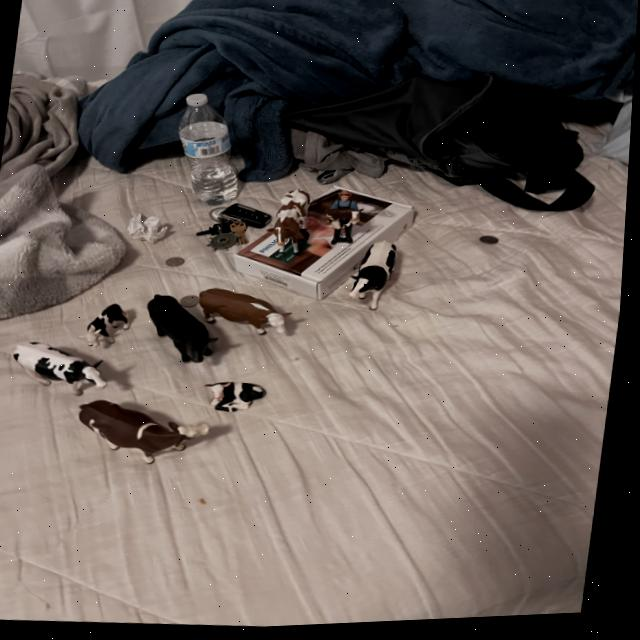cow: (74, 395, 215, 477), (9, 335, 117, 406), (140, 286, 226, 373), (197, 286, 296, 342), (350, 239, 404, 314), (82, 300, 139, 357), (272, 190, 313, 249), (209, 383, 271, 415), (328, 206, 364, 233)
person: (333, 195, 361, 214)
